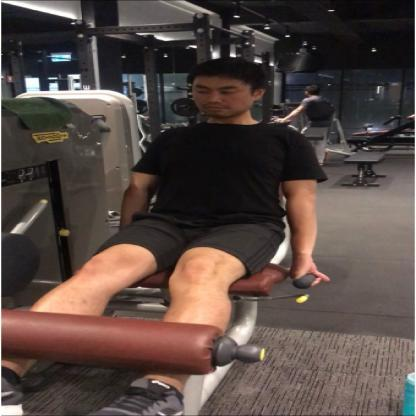leg extension: (0, 48, 347, 416)
